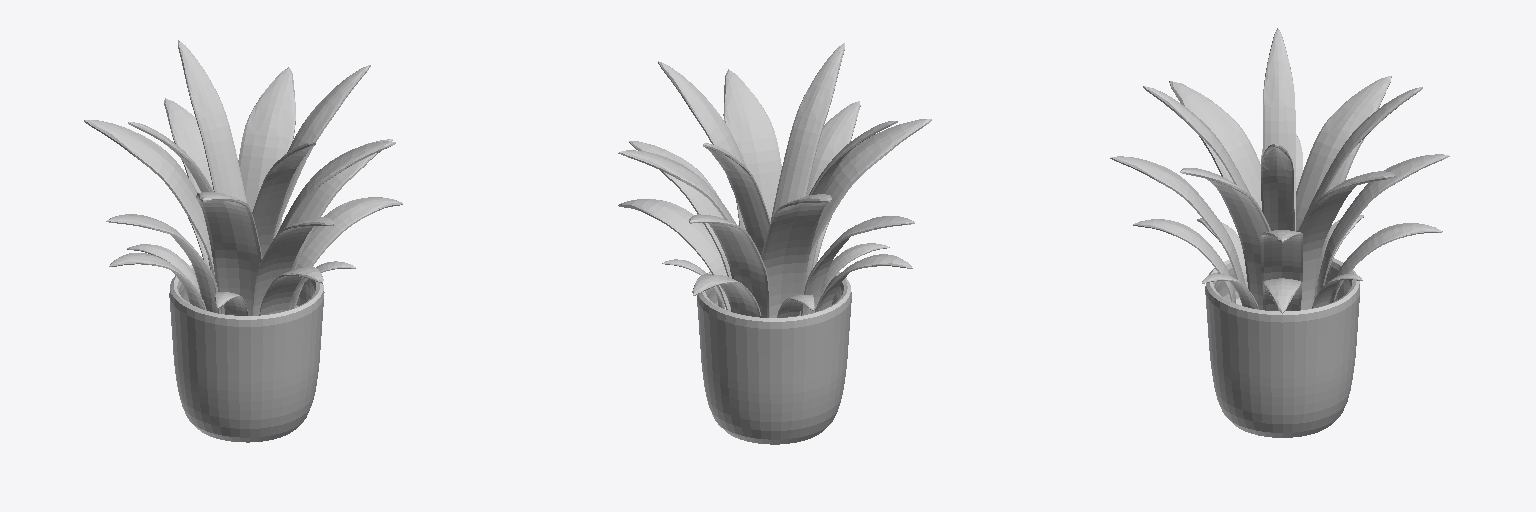
Rendered from pottedplant.obj.
3 renders of one model, left to right at view 1: azimuth 30°, elevation 25°; view 2: azimuth 150°, elevation 25°; view 3: azimuth 270°, elevation 25°, orthographic.
Visible parts, largest first — view 1: PotSmooth1 PottedPlant, PotSmooth1 PottedPlant Leaves10, PotSmooth1 PottedPlant Leaves13, PotSmooth1 PottedPlant Leaves19, PotSmooth1 PottedPlant Leaves11, PotSmooth1 PottedPlant Leaves21, PotSmooth1 PottedPlant Leaves4, PotSmooth1 PottedPlant Leaves6, PotSmooth1 PottedPlant Leaves18, PotSmooth1 PottedPlant Leaves3, PotSmooth1 PottedPlant Leaves2, PotSmooth1 PottedPlant Leaves12 (+6 smaller); view 2: PotSmooth1 PottedPlant, PotSmooth1 PottedPlant Leaves11, PotSmooth1 PottedPlant Leaves12, PotSmooth1 PottedPlant Leaves21, PotSmooth1 PottedPlant Leaves10, PotSmooth1 PottedPlant Leaves2, PotSmooth1 PottedPlant Leaves6, PotSmooth1 PottedPlant Leaves19, PotSmooth1 PottedPlant Leaves18, PotSmooth1 PottedPlant Leaves4, PotSmooth1 PottedPlant Leaves3, PotSmooth1 PottedPlant Leaves5 (+6 smaller); view 3: PotSmooth1 PottedPlant, PotSmooth1 PottedPlant Leaves11, PotSmooth1 PottedPlant Leaves10, PotSmooth1 PottedPlant Leaves20, PotSmooth1 PottedPlant Leaves12, PotSmooth1 PottedPlant Leaves13, PotSmooth1 PottedPlant Leaves18, PotSmooth1 PottedPlant Leaves4, PotSmooth1 PottedPlant Leaves2, PotSmooth1 PottedPlant Leaves5, PotSmooth1 PottedPlant Leaves19, PotSmooth1 PottedPlant Leaves9 (+4 smaller).
Part boxes in pixels (x1,y1,x2,y2): PotSmooth1 PottedPlant: (169, 265, 324, 442); PotSmooth1 PottedPlant Leaves10: (196, 192, 261, 315); PotSmooth1 PottedPlant Leaves13: (238, 67, 295, 234); PotSmooth1 PottedPlant Leaves19: (178, 40, 246, 202); PotSmooth1 PottedPlant Leaves11: (84, 120, 217, 289); PotSmooth1 PottedPlant Leaves21: (252, 142, 315, 258); PotSmooth1 PottedPlant Leaves4: (253, 217, 333, 315); PotSmooth1 PottedPlant Leaves6: (291, 197, 402, 308); PotSmooth1 PottedPlant Leaves18: (272, 65, 370, 240); PotSmooth1 PottedPlant Leaves3: (106, 214, 220, 313); PotSmooth1 PottedPlant Leaves2: (164, 98, 213, 271); PotSmooth1 PottedPlant Leaves12: (277, 141, 395, 233); PotSmooth1 PottedPlant: (697, 271, 851, 444); PotSmooth1 PottedPlant Leaves11: (761, 194, 831, 317); PotSmooth1 PottedPlant Leaves12: (723, 69, 781, 229); PotSmooth1 PottedPlant Leaves21: (771, 43, 844, 220); PotSmooth1 PottedPlant Leaves10: (807, 119, 931, 267); PotSmooth1 PottedPlant Leaves2: (689, 214, 769, 317); PotSmooth1 PottedPlant Leaves6: (618, 199, 730, 311); PotSmooth1 PottedPlant Leaves19: (703, 143, 770, 255); PotSmooth1 PottedPlant Leaves18: (658, 61, 745, 197); PotSmooth1 PottedPlant Leaves4: (804, 101, 860, 290); PotSmooth1 PottedPlant Leaves3: (801, 216, 914, 315); PotSmooth1 PottedPlant Leaves5: (629, 141, 731, 277); PotSmooth1 PottedPlant: (1205, 258, 1359, 437); PotSmooth1 PottedPlant Leaves11: (1296, 76, 1391, 300); PotSmooth1 PottedPlant Leaves10: (1169, 81, 1261, 209); PotSmooth1 PottedPlant Leaves20: (1263, 28, 1295, 230); PotSmooth1 PottedPlant Leaves12: (1180, 168, 1270, 309); PotSmooth1 PottedPlant Leaves13: (1297, 171, 1395, 309); PotSmooth1 PottedPlant Leaves18: (1261, 144, 1294, 230); PotSmooth1 PottedPlant Leaves4: (1110, 156, 1245, 285); PotSmooth1 PottedPlant Leaves2: (1317, 154, 1449, 294); PotSmooth1 PottedPlant Leaves5: (1261, 230, 1302, 285); PotSmooth1 PottedPlant Leaves19: (1304, 87, 1422, 218); PotSmooth1 PottedPlant Leaves9: (1329, 223, 1442, 303).
Bounding box in the file's own units: 4.32 × 4.61 × 4.28.